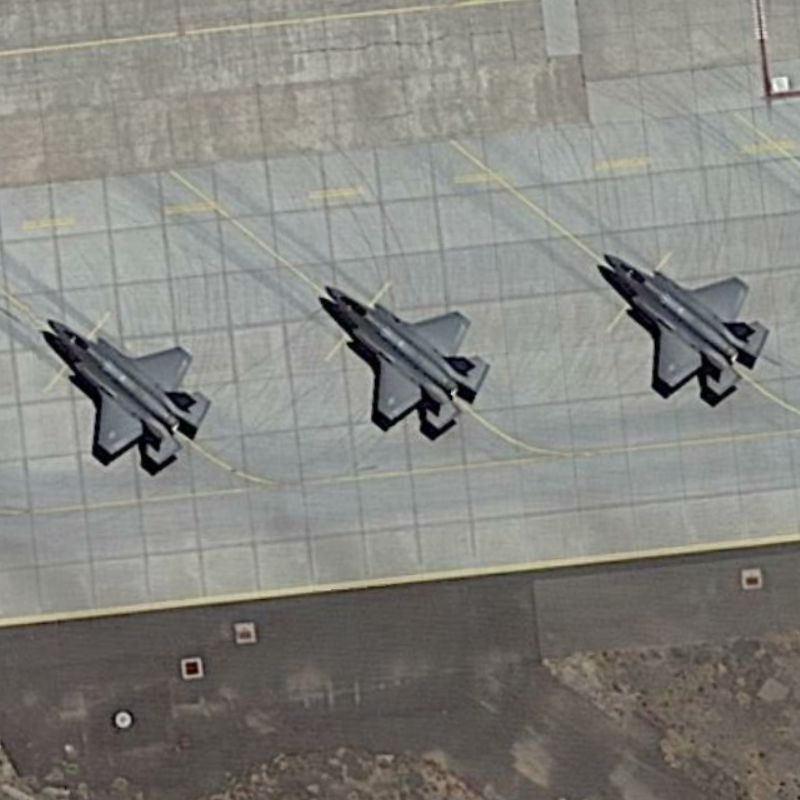A15: (37, 309, 222, 479), (311, 278, 497, 444), (597, 242, 771, 410)
